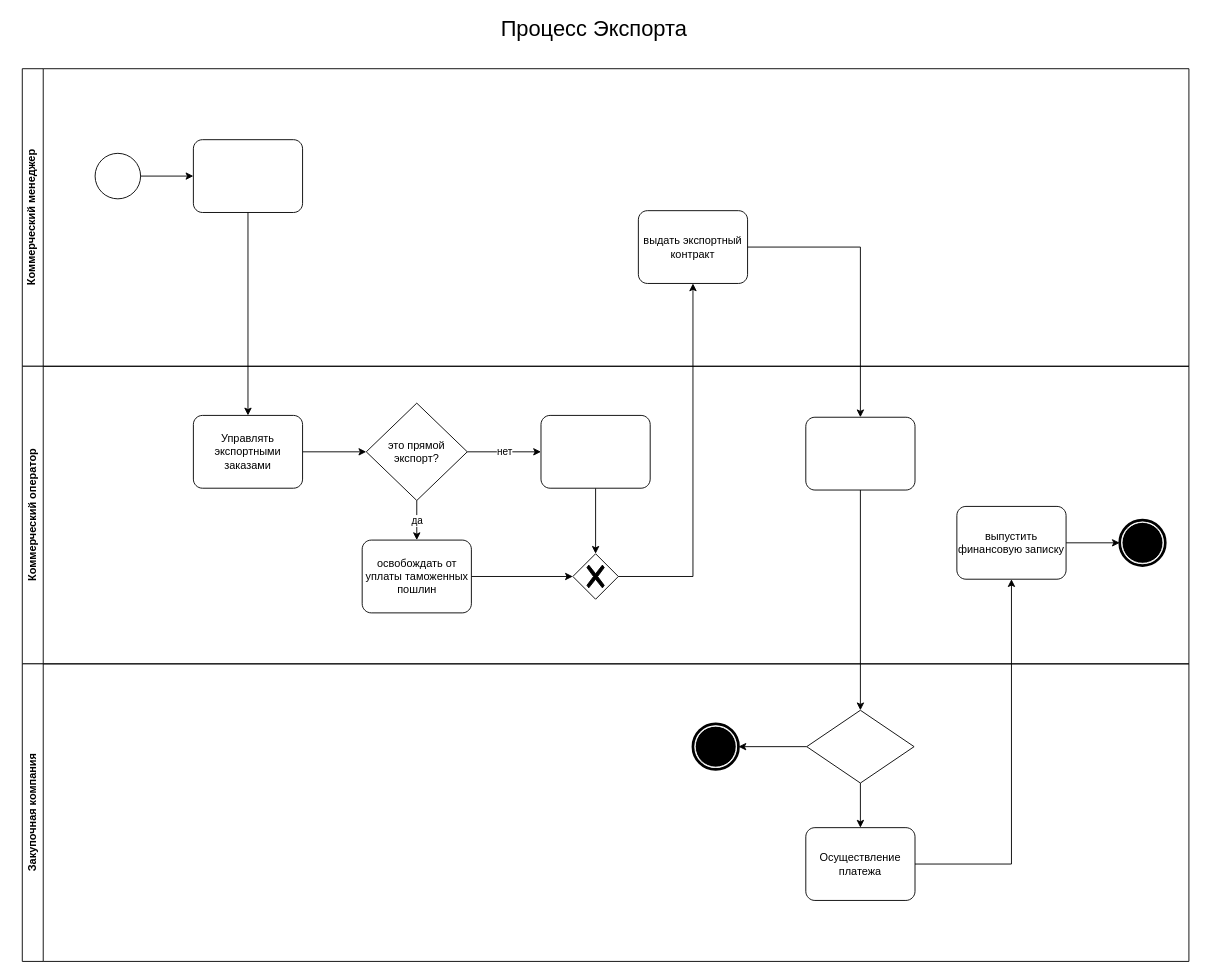
This 1205x977 diagram has some shape labels left out. The centre of each missing label's shape, as x and y in pixels:
"Зарегистрировать торговую кампанию" goes at point (247, 175).
"определить маршрут экспорта" goes at point (860, 453).
"рассчитать ставку пошлины" goes at point (595, 451).
"экспорт одобрен?" goes at point (860, 746).
